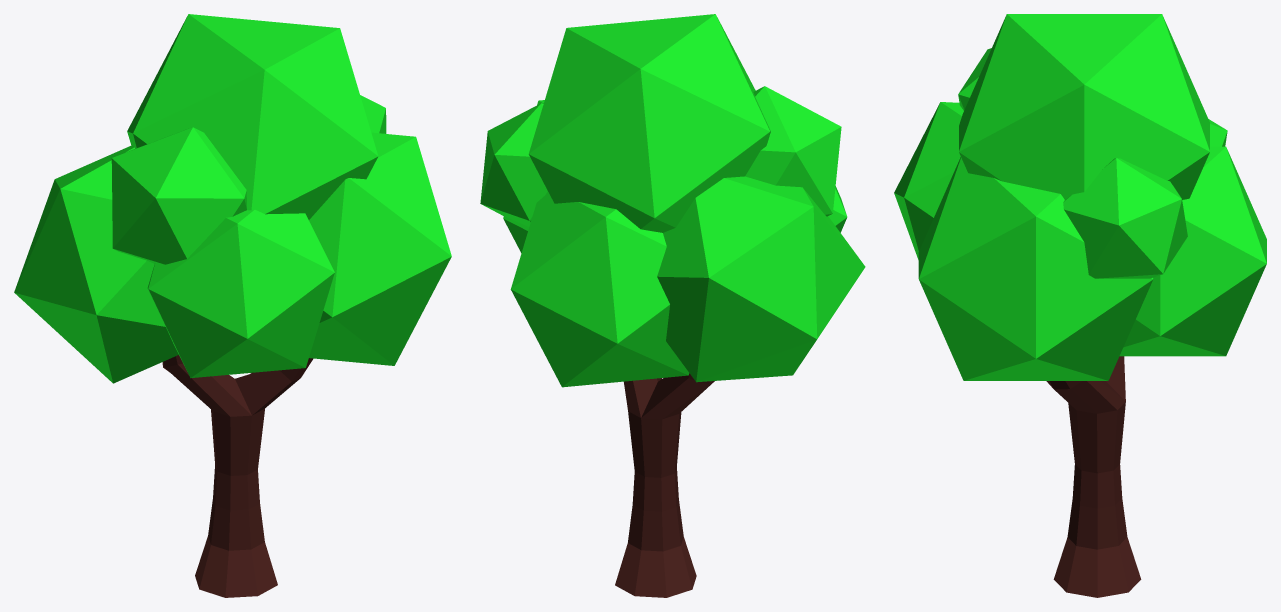
File: Tree1.FBX
The picture shows the model from 3 angles, left to right: view 1: azimuth 30°, elevation 25°; view 2: azimuth 150°, elevation 25°; view 3: azimuth 270°, elevation 25°; orthographic projection. The views are drawn at different scales.
Parts seen in each view (by area): view 1: Tree; view 2: Tree; view 3: Tree.
Boxes of the visible parts, x1=… form: Tree: x1=14, y1=14, x2=451, y2=597; Tree: x1=480, y1=14, x2=865, y2=597; Tree: x1=894, y1=14, x2=1266, y2=597.
Size of the model in its own units: 1053 by 1476 by 895.
